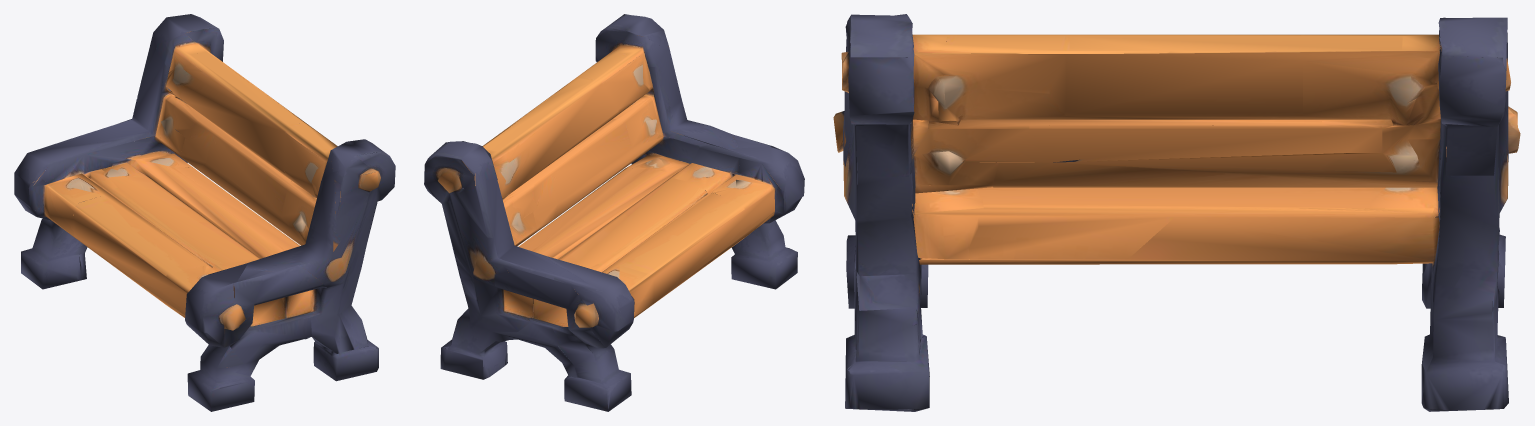
Rendered from M-5_02_bench.glb.
The picture shows the model from 3 angles, left to right: view 1: azimuth 30°, elevation 25°; view 2: azimuth 150°, elevation 25°; view 3: azimuth 270°, elevation 25°; orthographic projection. The views are drawn at different scales.
Visible parts, largest first — view 1: bench; view 2: bench; view 3: bench.
Part boxes in pixels (x1=…): bench: x1=14, y1=14, x2=395, y2=411; bench: x1=424, y1=14, x2=804, y2=411; bench: x1=833, y1=14, x2=1520, y2=411.
Size of the model in its own units: 1.29 by 1.41 by 2.29.
Materials: 1 (1 with a texture image).
